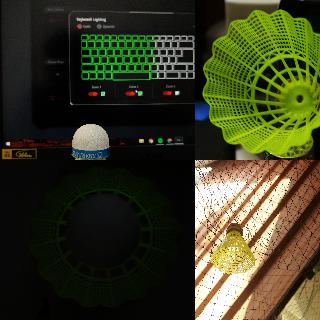shuttlecock: (30, 167, 180, 306), (202, 9, 319, 158), (48, 123, 132, 159), (210, 222, 256, 274)
